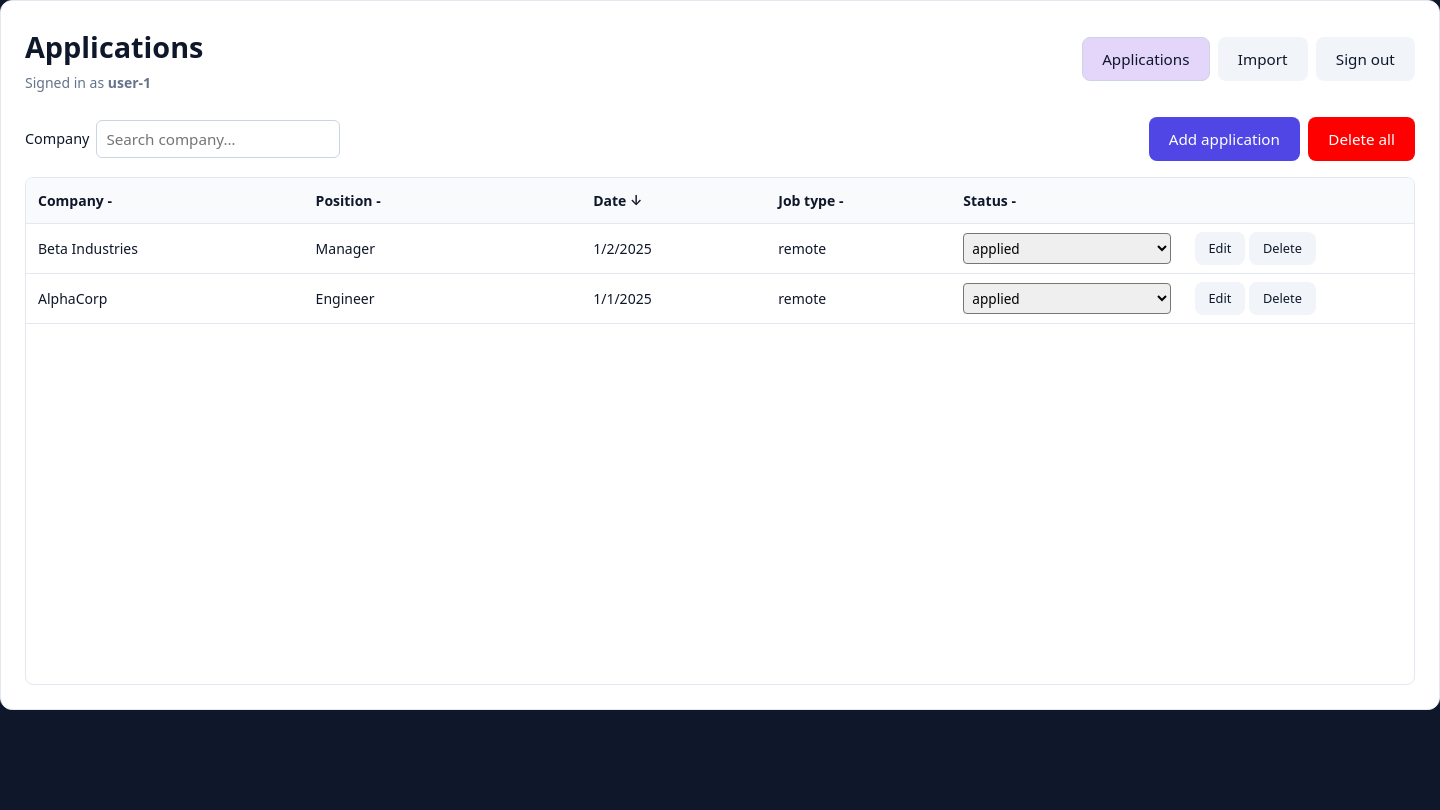
it: ApplicationsPage › filters applications by company name as the user types
This screenshot has width=1440, height=810.
Check: the text "AlphaCorp" is shown, box [38,289,107,308]
Check: the text "Beta Industries" is shown, box [38,239,138,258]
Type "beta" into the search field labelled "Company" at coordinates (218, 139), box [96,120,340,158]
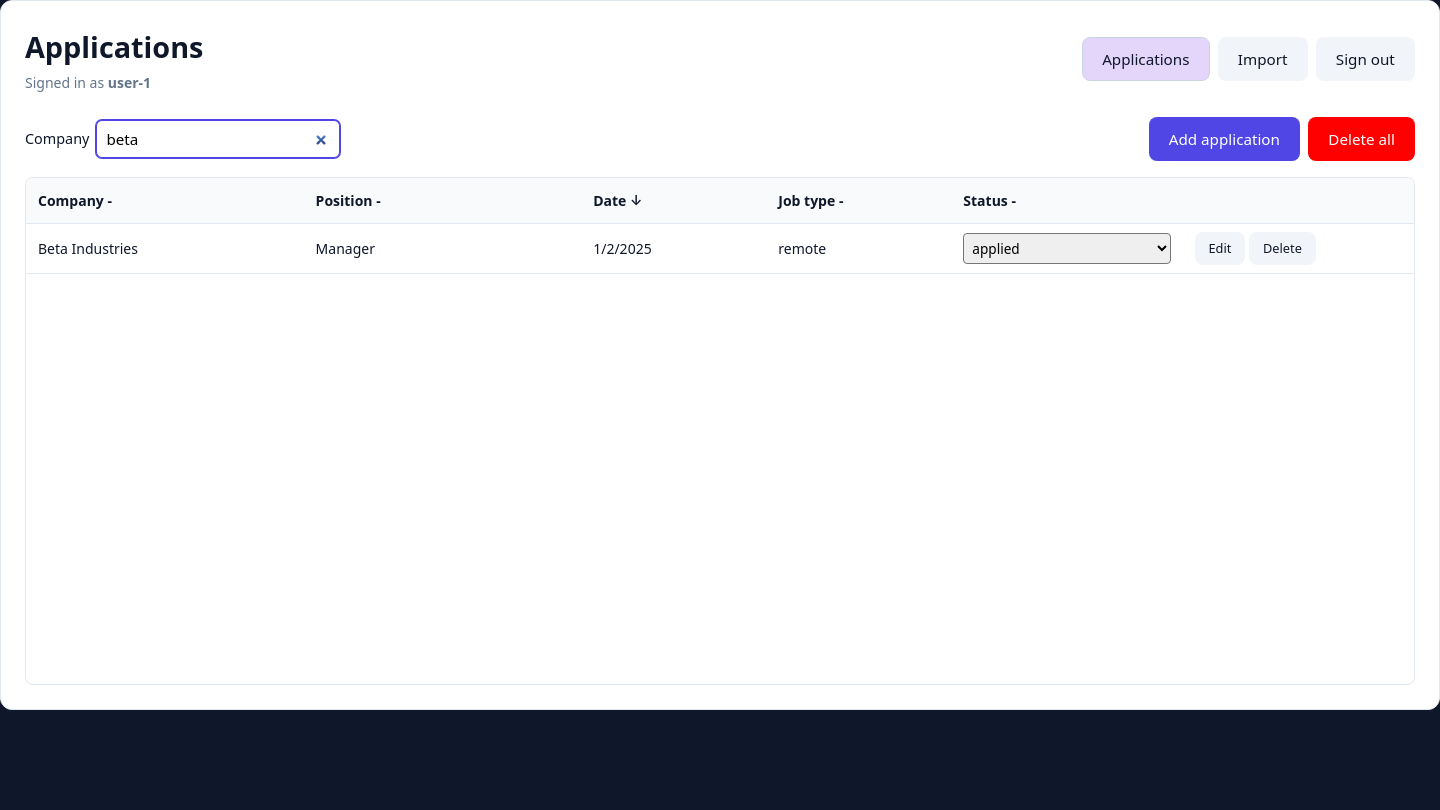
Check: the text "Beta Industries" is shown, box [38,239,138,258]
Check: the text "AlphaCorp" is gone
